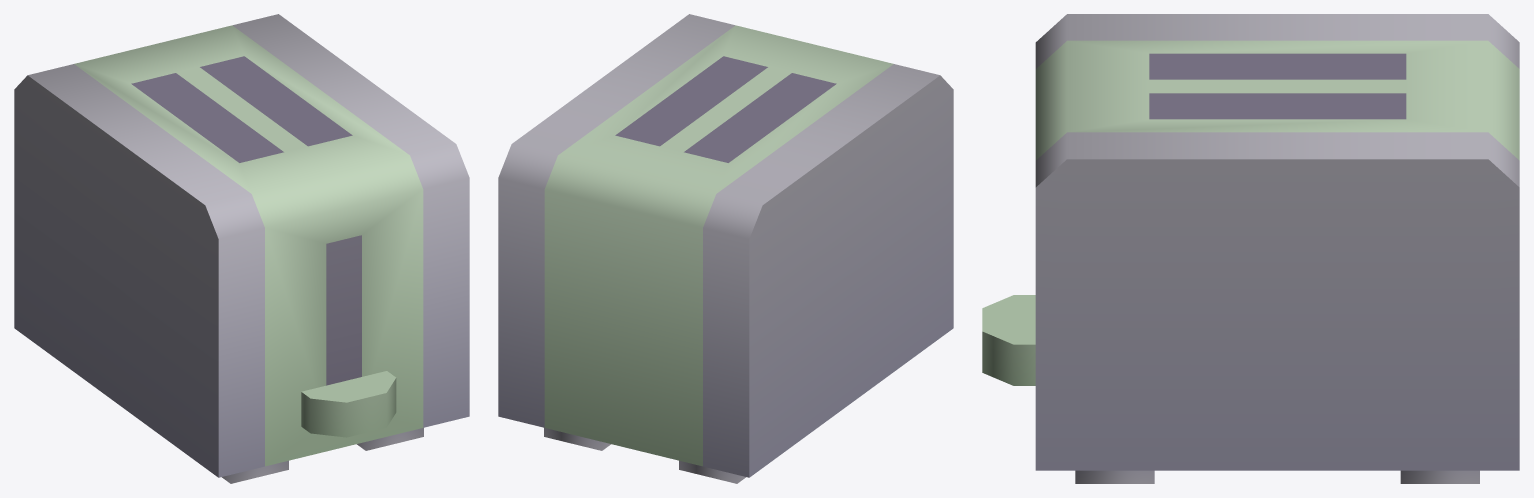
Rendered from toaster-side.glb.
3 views of the same model, side by side, from view 1: azimuth 30°, elevation 25°; view 2: azimuth 150°, elevation 25°; view 3: azimuth 270°, elevation 25° (orthographic). The views are drawn at different scales.
Parts seen in each view (by area): view 1: toaster-side; view 2: toaster-side; view 3: toaster-side.
Boxes of the visible parts, x1,y1,x2,y2 form: toaster-side: [14, 14, 469, 483]; toaster-side: [498, 14, 953, 483]; toaster-side: [982, 14, 1519, 483].
Bounding box in the file's own units: 0.164 × 0.1799 × 0.2567.
